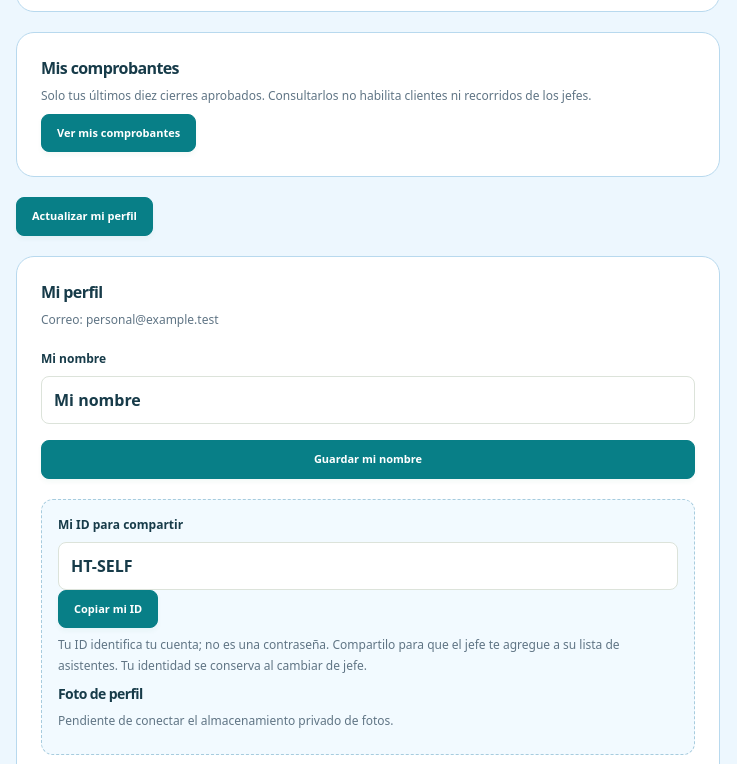
Scenario: guarda nombre solo en su perfil sin cambiar identidad ni membresias
The image size is (737, 764).
(page scrolled)
Check: the text "Correo: personal@example.test" is shown, box [41, 311, 218, 328]
Replace the text in the field labelled "Mi nombre" with "Nombre actualizado": [368, 400] box [41, 376, 695, 424]
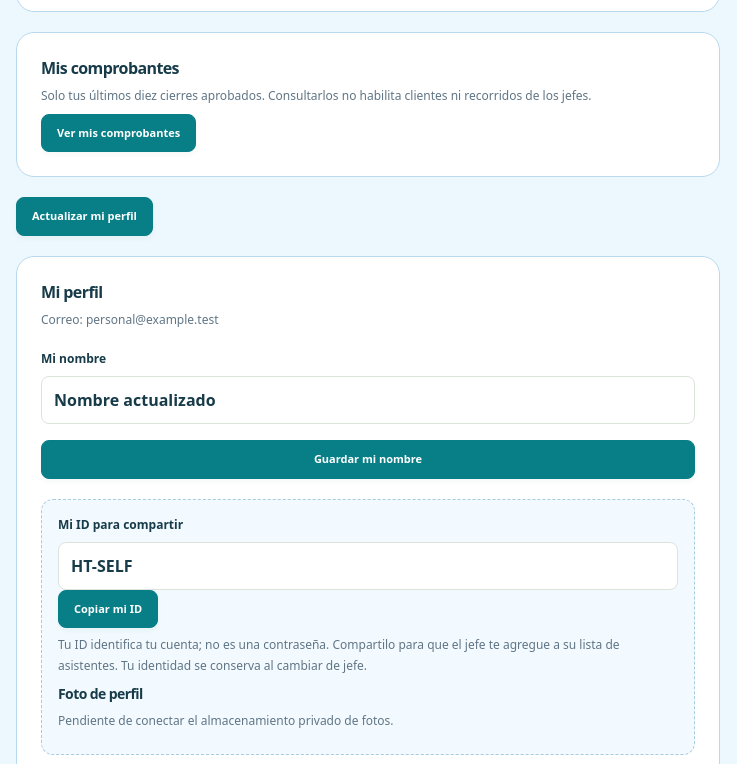
Click the button "Guardar mi nombre": [368, 460] box [41, 440, 695, 479]
(page scrolled)
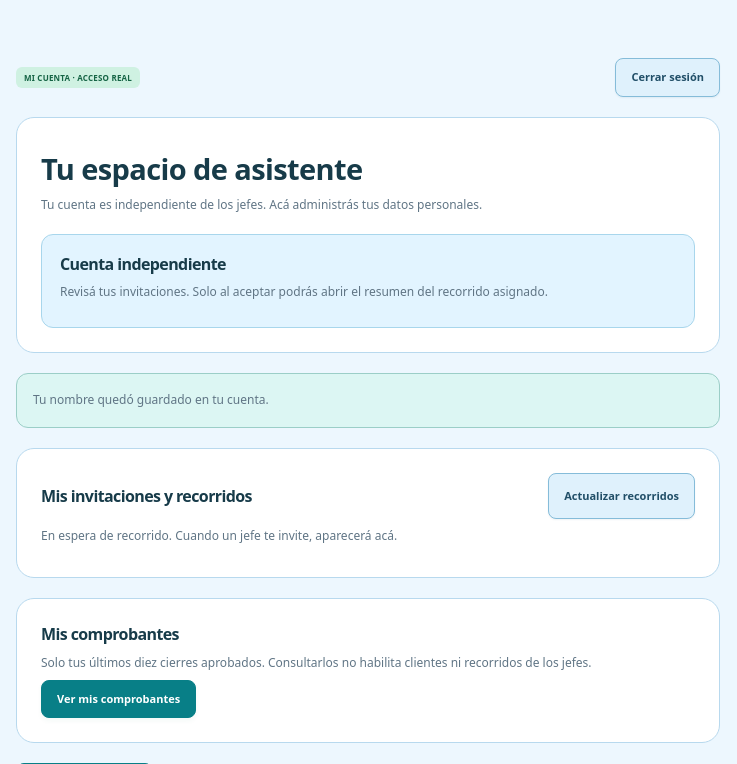
Check: the text "Tu nombre quedó guardado en tu cuenta." is shown, box [16, 373, 720, 428]
